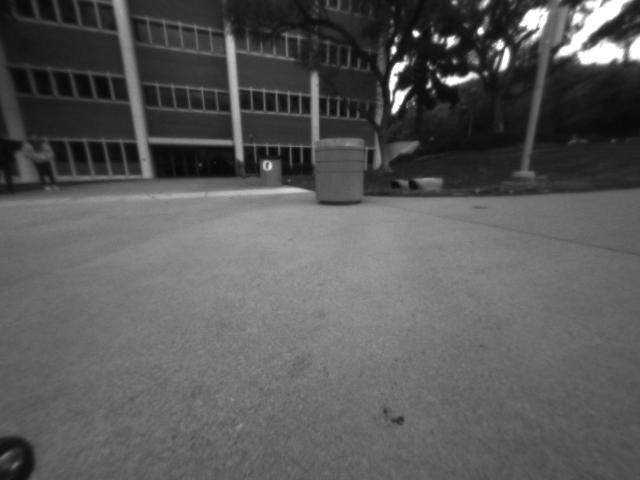trashcan: (310, 132, 370, 206), (258, 149, 284, 192)
